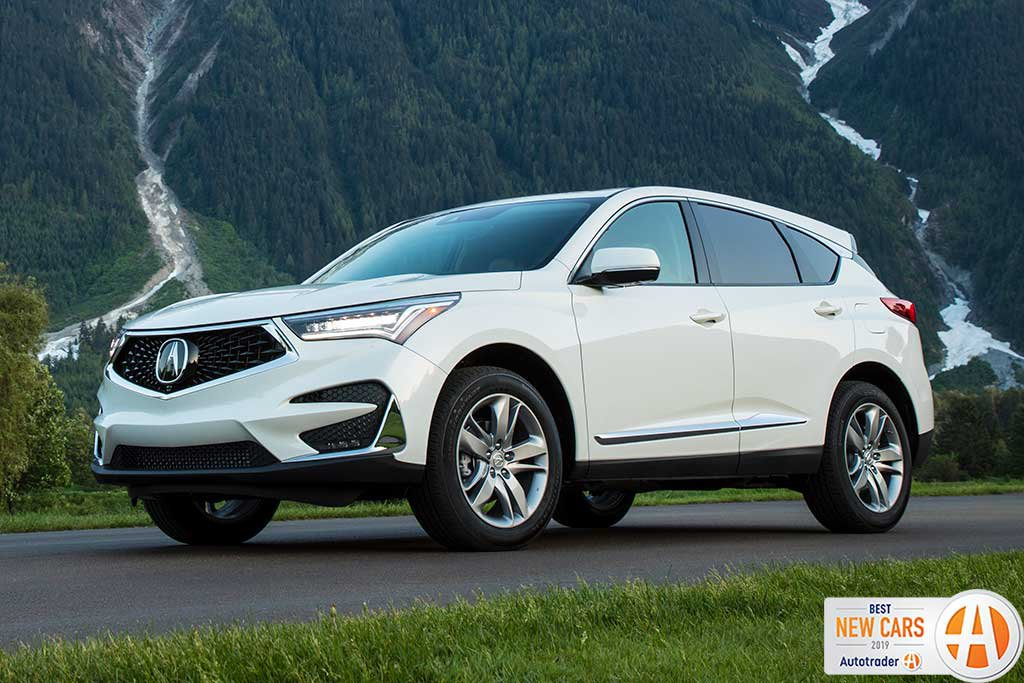car: (96, 181, 931, 532)
